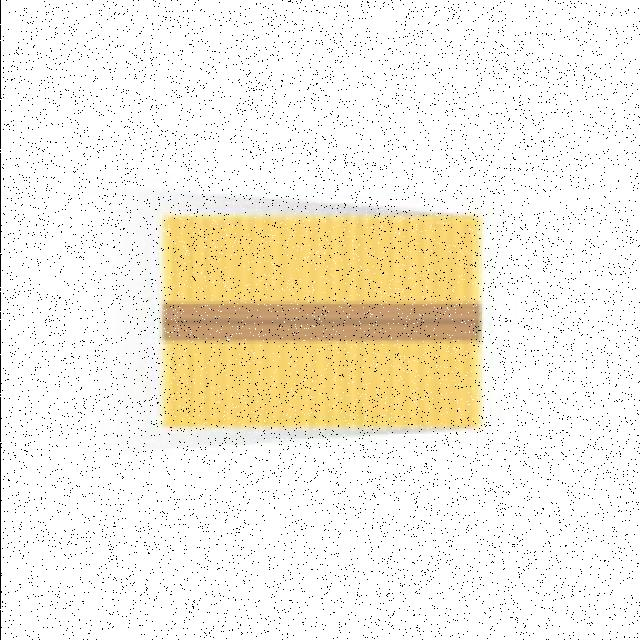normal: (154, 209, 483, 434)
